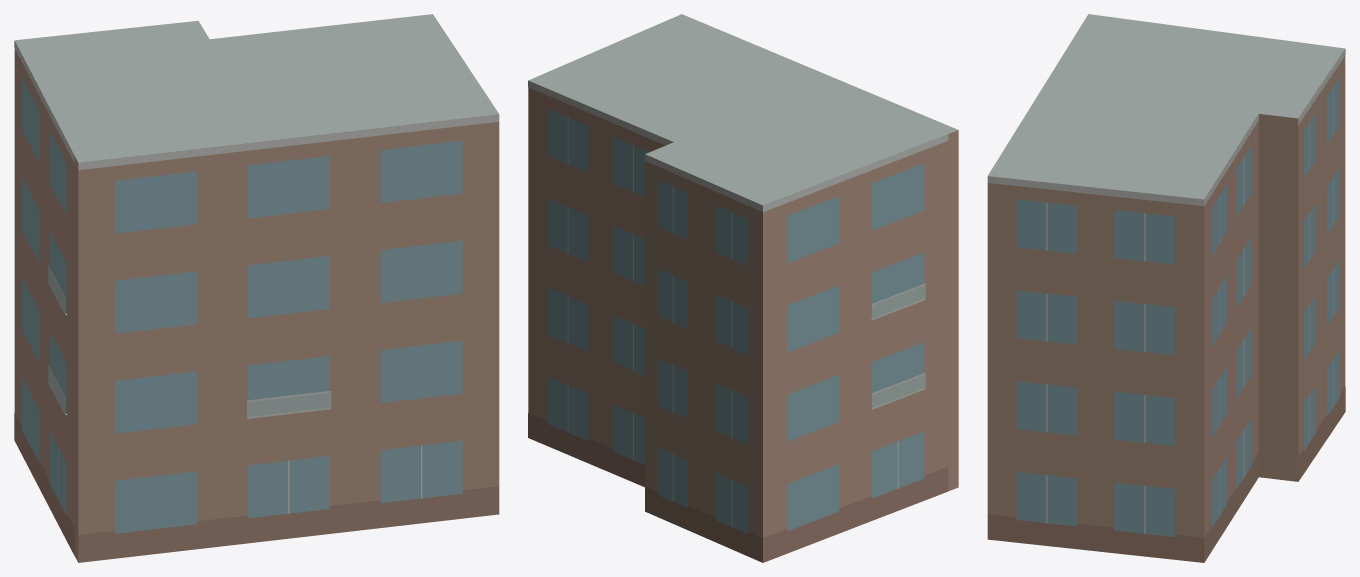
Rendered from survey-upis-32968761.glb.
3 views of the same model, side by side, from view 1: azimuth 30°, elevation 25°; view 2: azimuth 150°, elevation 25°; view 3: azimuth 270°, elevation 25° (orthographic). The views are drawn at different scales.
Parts seen in each view (by area): view 1: survey-upis-32968761.tmp; view 2: survey-upis-32968761.tmp; view 3: survey-upis-32968761.tmp.
Boxes of the visible parts, x1,y1,x2,y2 form: survey-upis-32968761.tmp: (14,14,499,562); survey-upis-32968761.tmp: (528,14,958,562); survey-upis-32968761.tmp: (987,14,1345,562).
Bounding box in the file's own units: 14.23 × 13 × 11.61.
